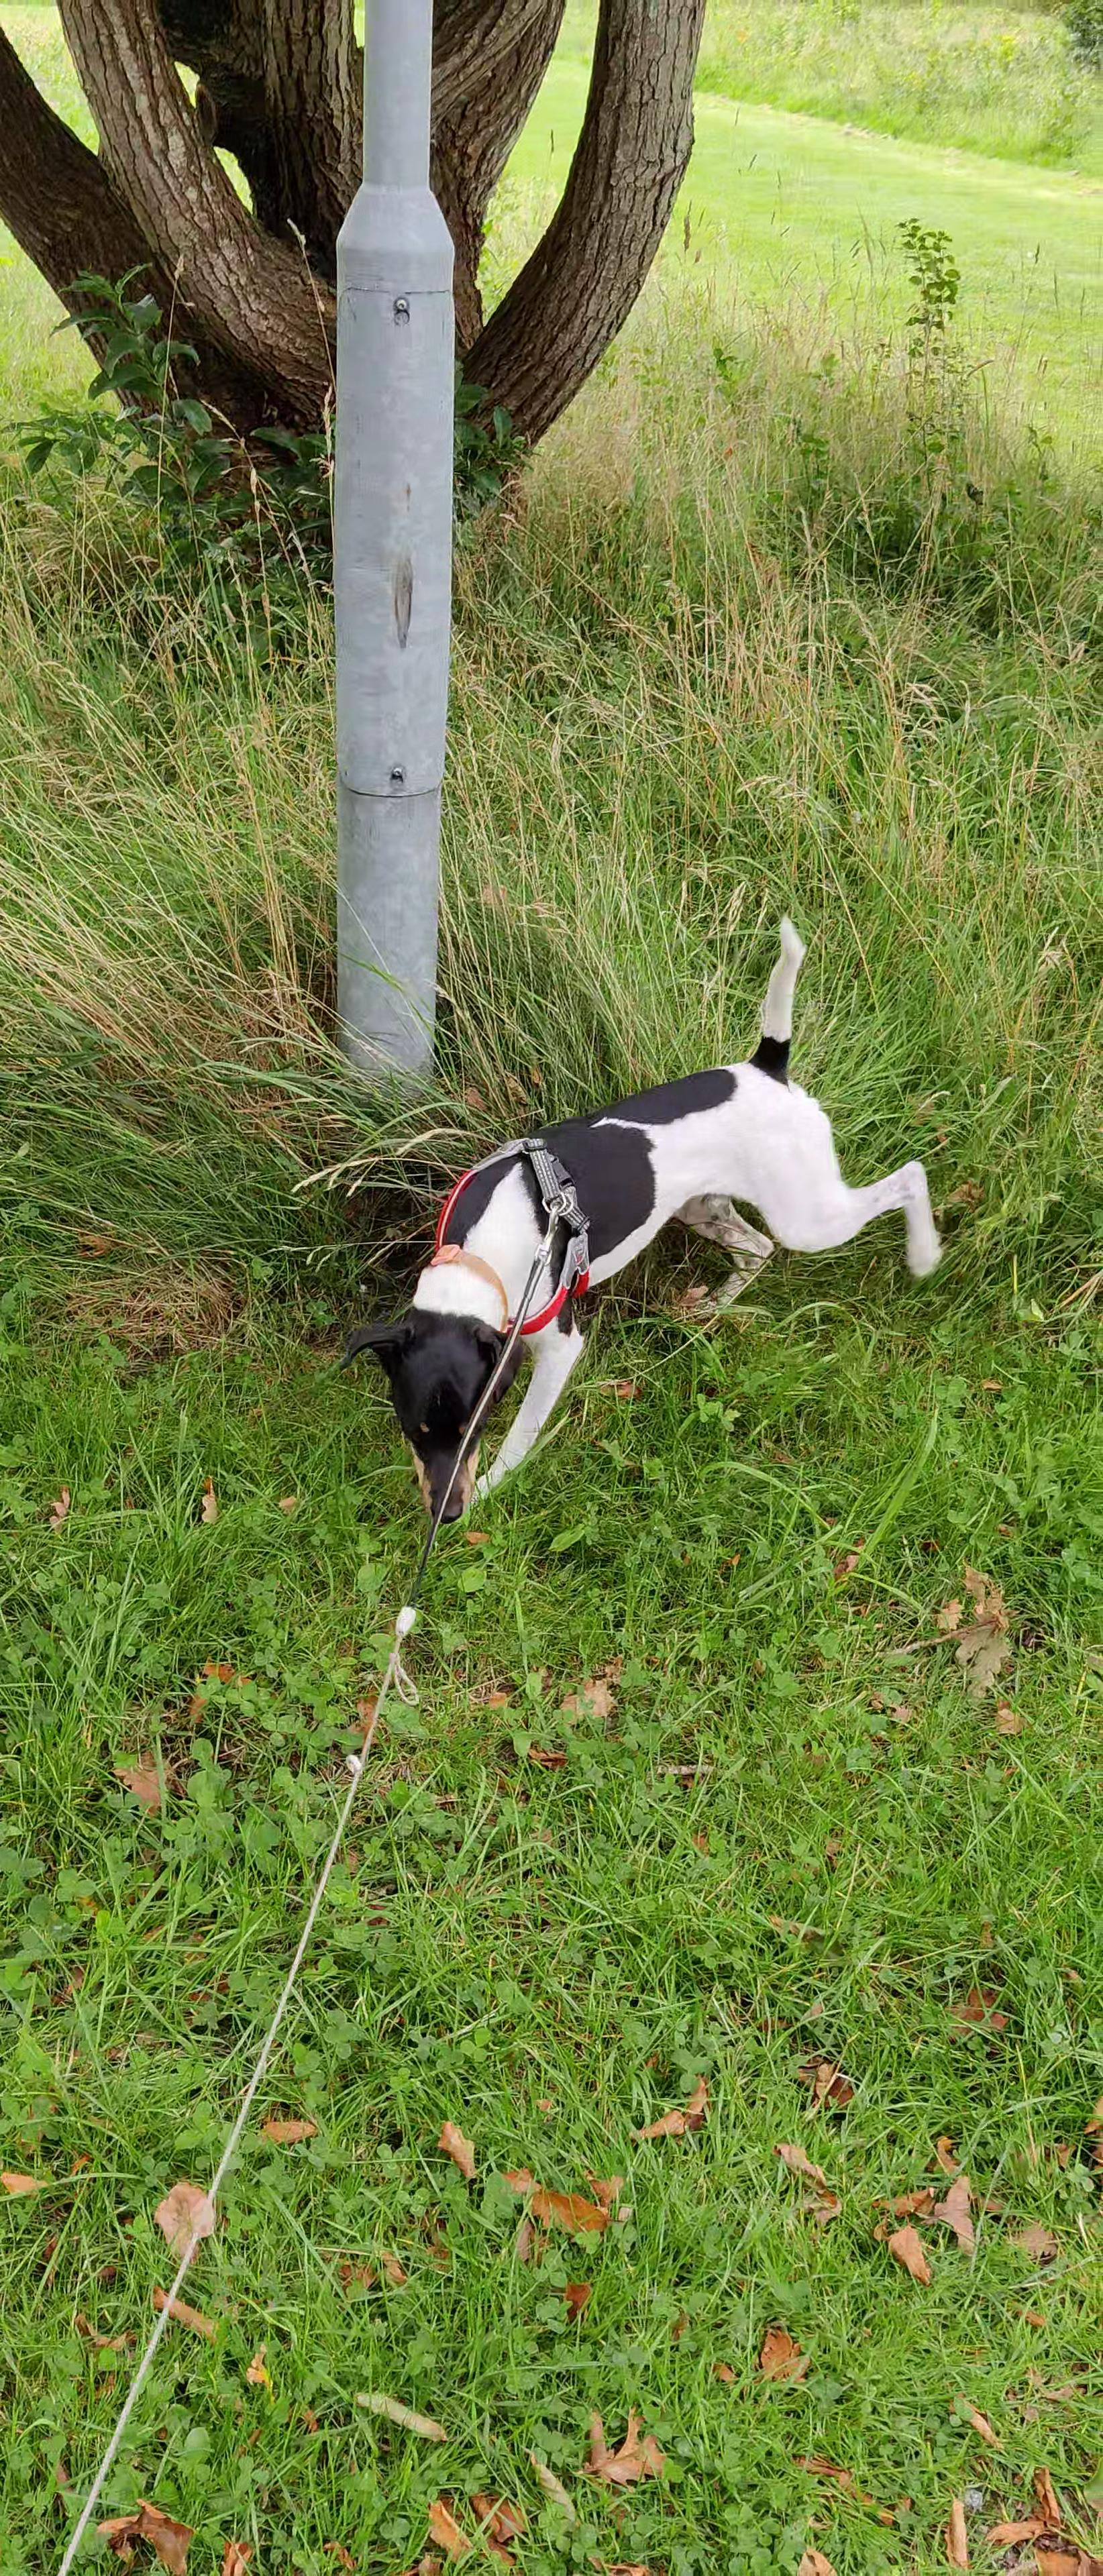Dog: (329, 900, 952, 1529)
